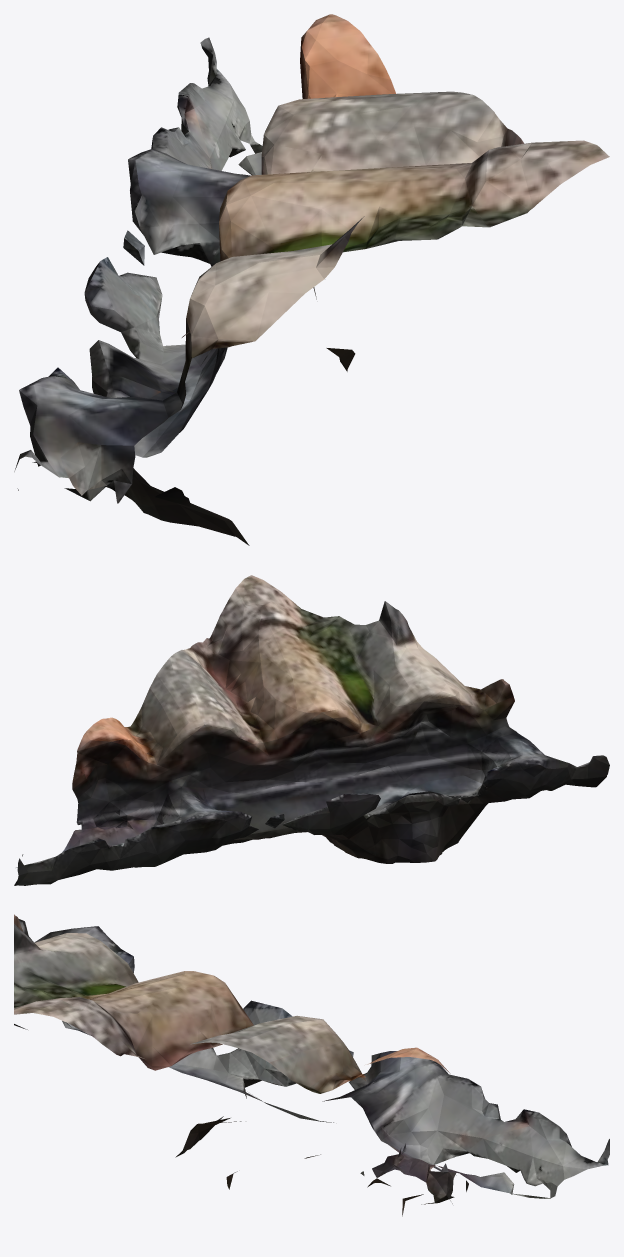
The picture shows the model from 3 angles, top to bottom: view 1: azimuth 30°, elevation 25°; view 2: azimuth 150°, elevation 25°; view 3: azimuth 270°, elevation 25°; orthographic projection. The views are drawn at different scales.
Bounding box in the file's own units: 0.7296 × 0.3666 × 0.8373.
Materials: 3 (3 with a texture image).
